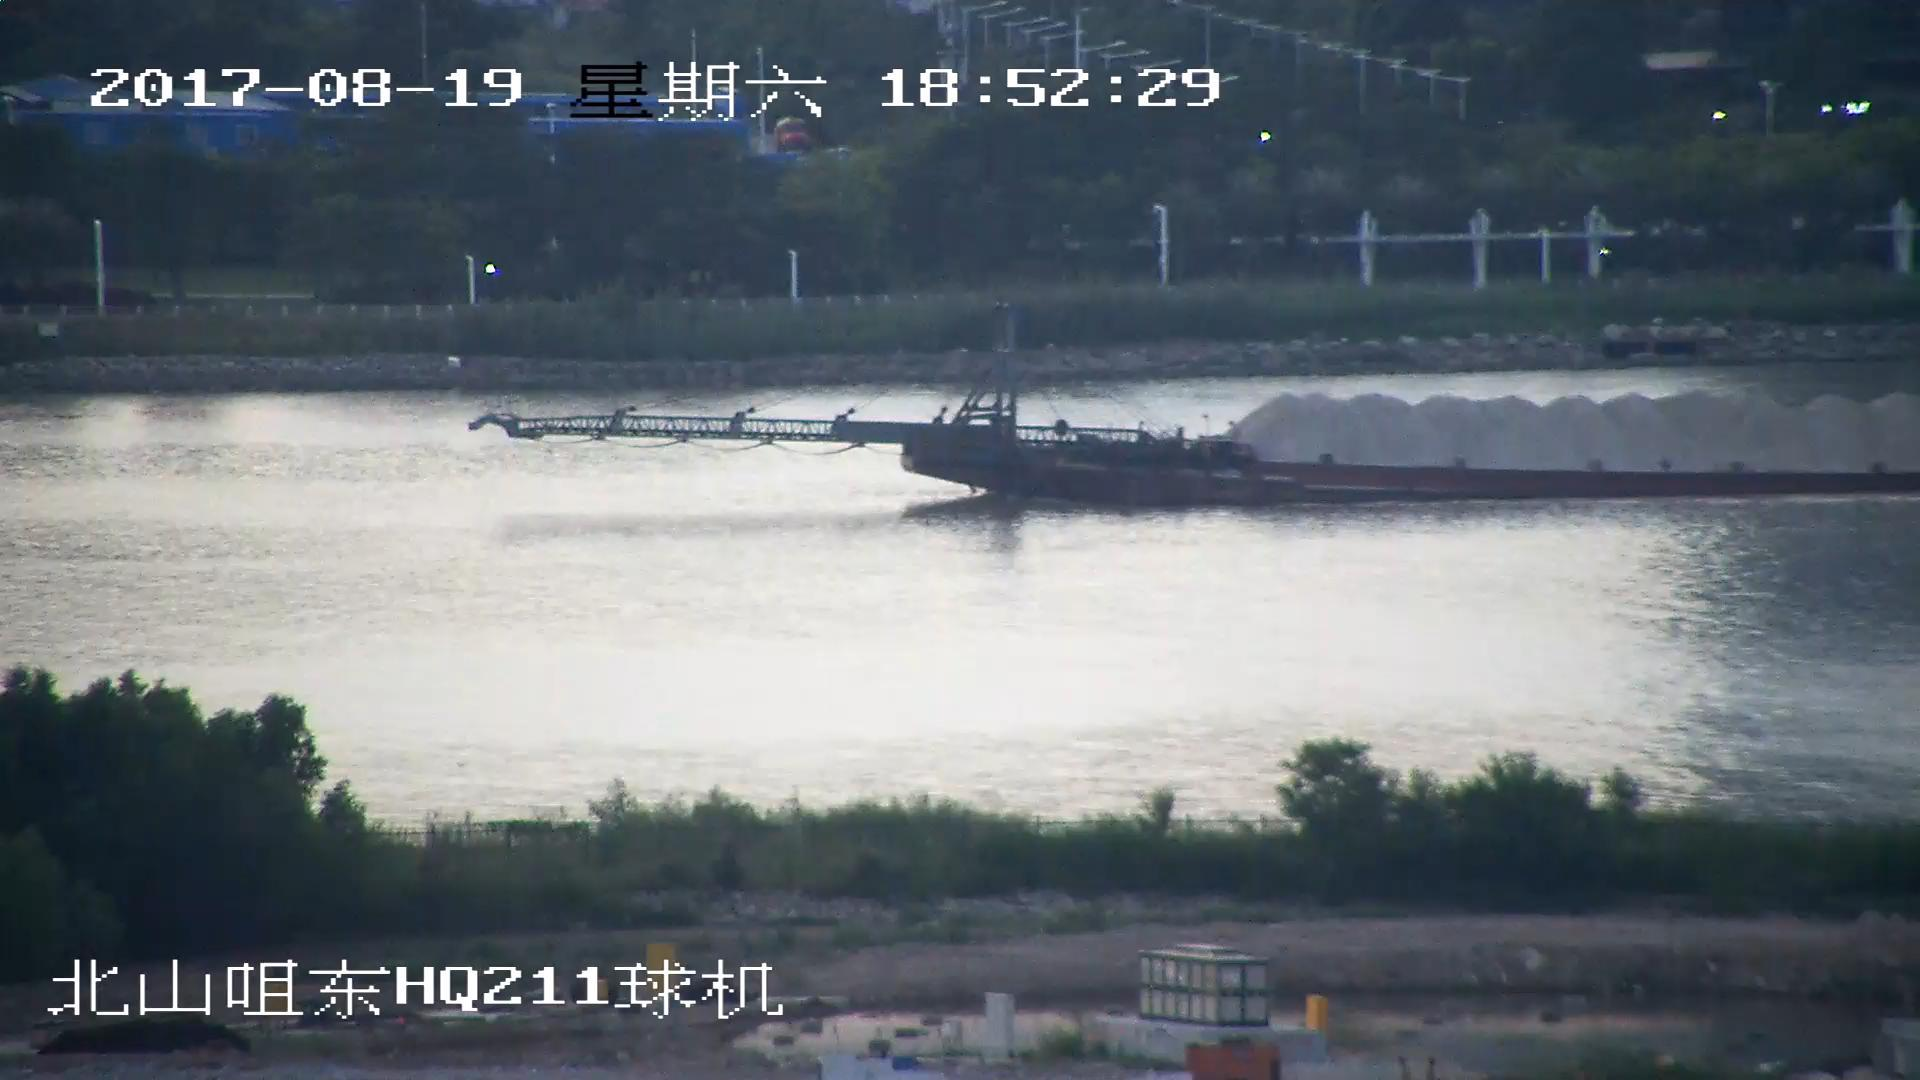Ship: (465, 303, 1920, 504)
